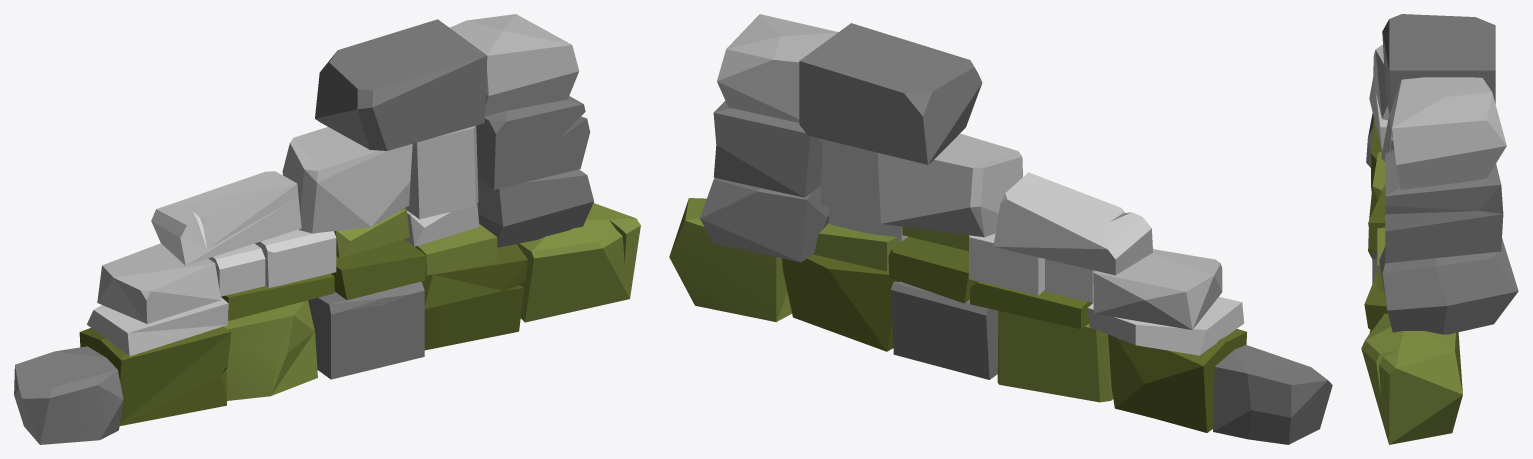
The model's file is EA03_Fence_Cobble_01a.fbx.
3 renders of one model, left to right at view 1: azimuth 30°, elevation 25°; view 2: azimuth 150°, elevation 25°; view 3: azimuth 270°, elevation 25°, orthographic. The views are drawn at different scales.
Visible parts, largest first — view 1: EA03_Fence_Cobble_01a_LOD0; view 2: EA03_Fence_Cobble_01a_LOD0; view 3: EA03_Fence_Cobble_01a_LOD0.
Part boxes in pixels (box(x1,y1,x2,y2)): EA03_Fence_Cobble_01a_LOD0: box(14, 14, 640, 444); EA03_Fence_Cobble_01a_LOD0: box(669, 14, 1332, 444); EA03_Fence_Cobble_01a_LOD0: box(1361, 14, 1518, 444).
Size of what is drawn, in the model's own units: 3.79 by 1.64 by 0.7795.
